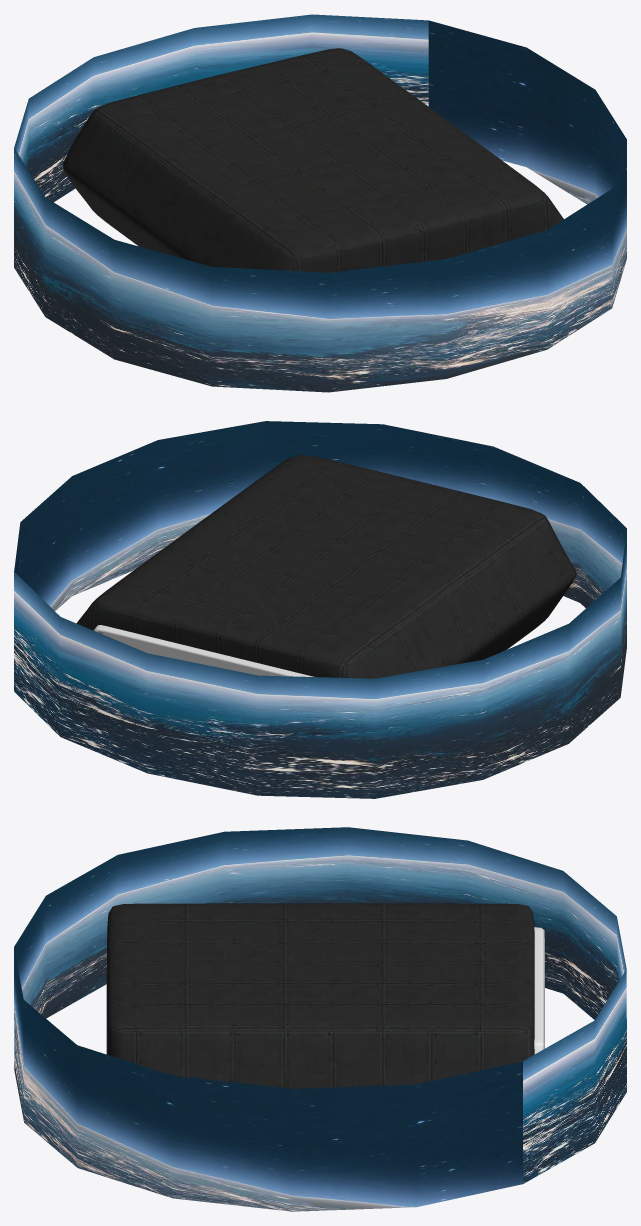
The model's file is sci-fi-hangar.glb.
3 renders of one model, top to bottom at view 1: azimuth 30°, elevation 25°; view 2: azimuth 150°, elevation 25°; view 3: azimuth 270°, elevation 25°, orthographic. The views are drawn at different scales.
Visible parts, largest first — view 1: Background_Backdrop_0, Sci_Fi_Hanger_Walls_0; view 2: Background_Backdrop_0, Sci_Fi_Hanger_Walls_0, Sci_Fi_Hanger_Chrome_0; view 3: Background_Backdrop_0, Sci_Fi_Hanger_Walls_0, Sci_Fi_Hanger_Chrome_0.
Boxes of the visible parts, x1=… form: Background_Backdrop_0: x1=14, y1=14, x2=626, y2=392; Sci_Fi_Hanger_Walls_0: x1=63, y1=48, x2=563, y2=272; Background_Backdrop_0: x1=14, y1=421, x2=626, y2=798; Sci_Fi_Hanger_Walls_0: x1=76, y1=454, x2=576, y2=678; Sci_Fi_Hanger_Chrome_0: x1=93, y1=625, x2=313, y2=676; Background_Backdrop_0: x1=14, y1=827, x2=626, y2=1211; Sci_Fi_Hanger_Walls_0: x1=106, y1=903, x2=534, y2=1088; Sci_Fi_Hanger_Chrome_0: x1=534, y1=927, x2=544, y2=1054.
Size of the model in its own units: 36.52 by 8.07 by 36.17.
7 materials, 3 textured.
